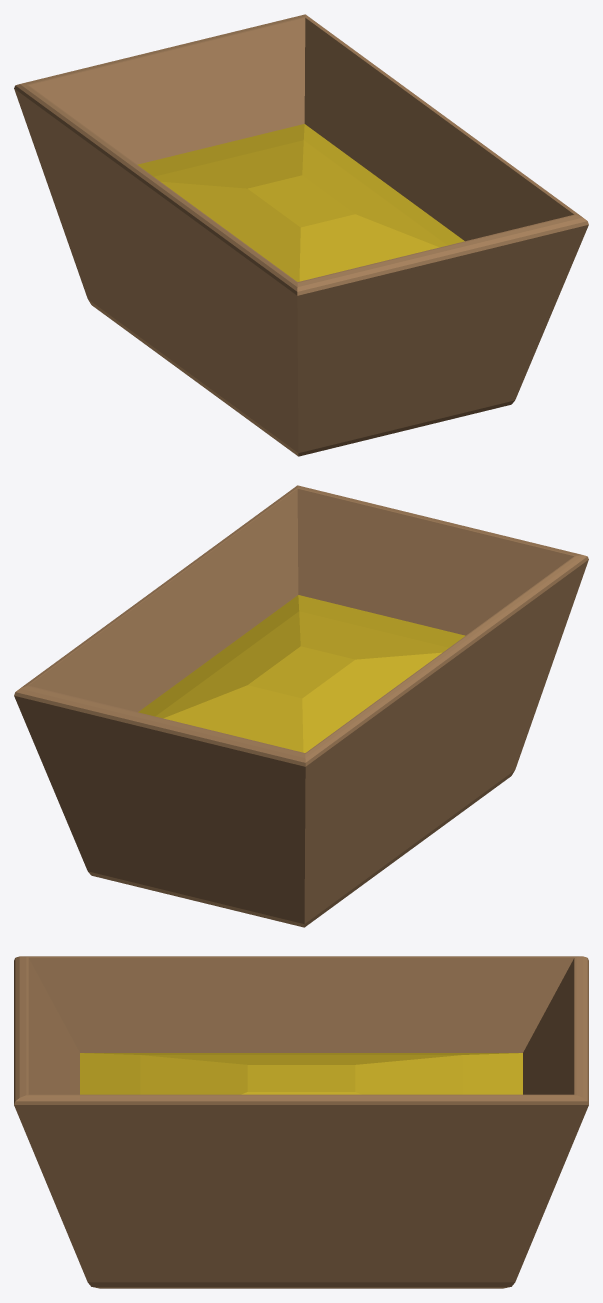
The model's file is Food Bowl Var 5 Filled.fbx.
3 views of the same model, one above another, from view 1: azimuth 30°, elevation 25°; view 2: azimuth 150°, elevation 25°; view 3: azimuth 270°, elevation 25° (orthographic).
Parts seen in each view (by area): view 1: Food Bowl Var 5 filled; view 2: Food Bowl Var 5 filled; view 3: Food Bowl Var 5 filled.
Boxes of the visible parts, bbox=[...] form: Food Bowl Var 5 filled: bbox=[14, 14, 588, 456]; Food Bowl Var 5 filled: bbox=[14, 485, 588, 927]; Food Bowl Var 5 filled: bbox=[14, 956, 588, 1288].
Bounding box in the file's own units: 46.71 × 32.18 × 78.64.
